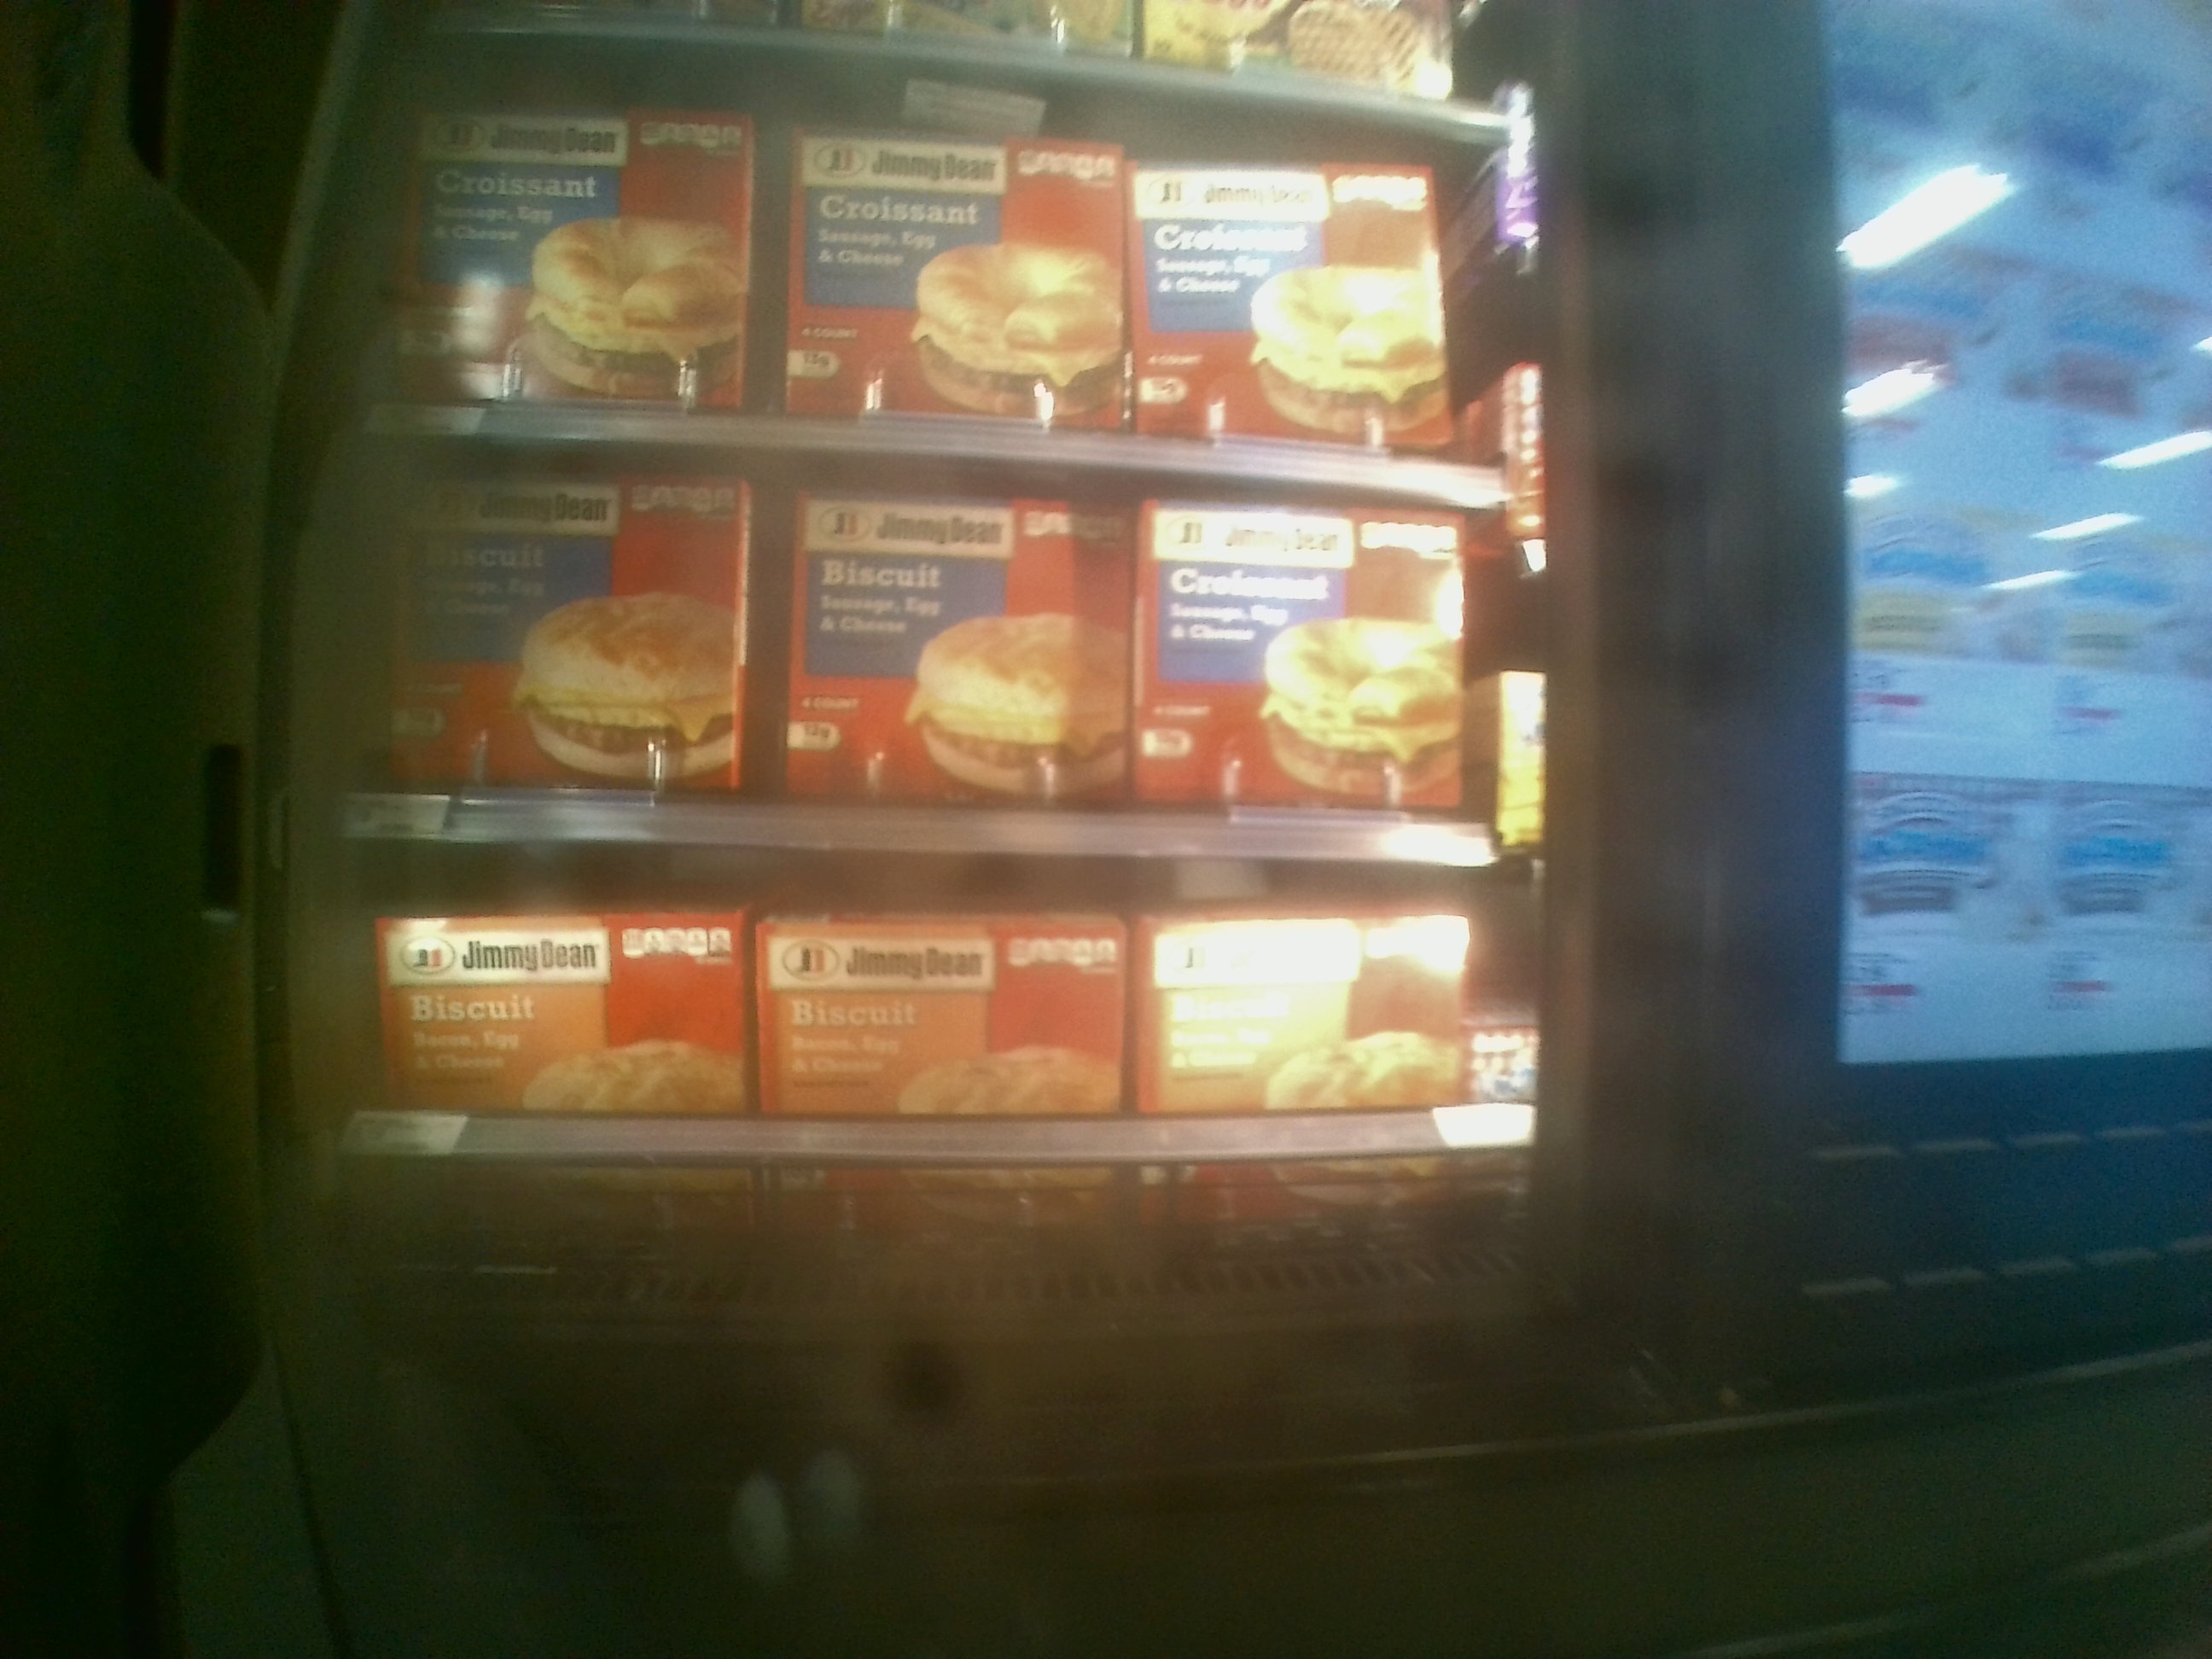shelf: (348, 852, 1554, 1284), (364, 430, 1531, 868)
